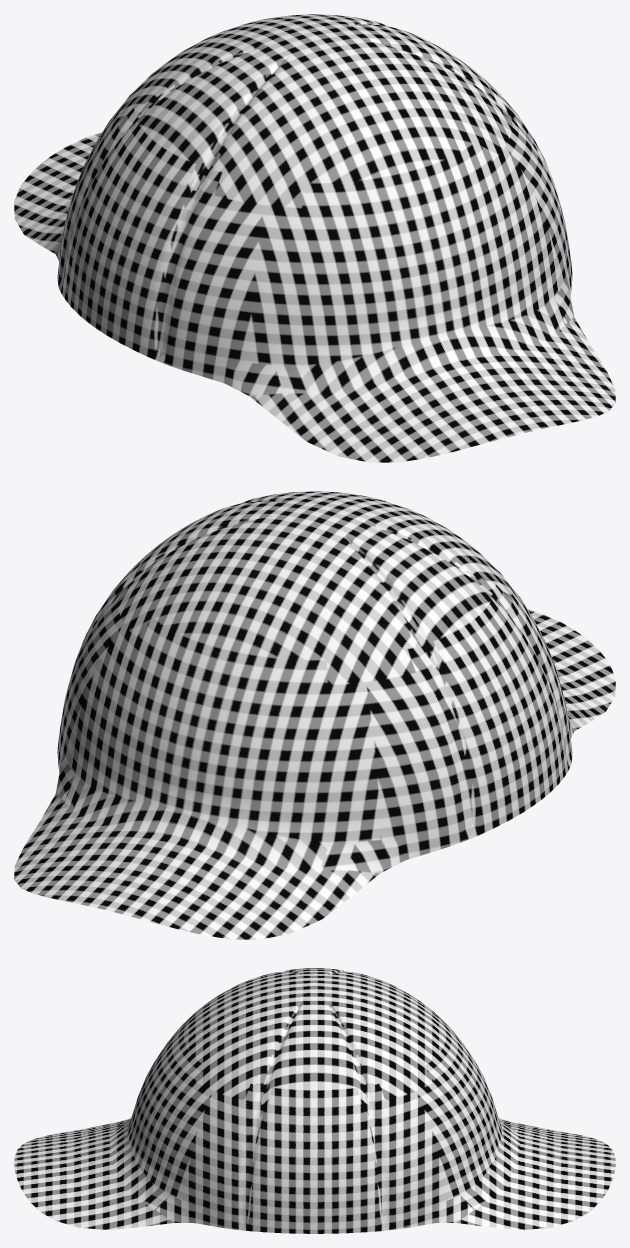
The model's file is Sherlock cap.fbx.
3 renders of one model, top to bottom at view 1: azimuth 30°, elevation 25°; view 2: azimuth 150°, elevation 25°; view 3: azimuth 270°, elevation 25°, orthographic. The views are drawn at different scales.
Visible parts, largest first — view 1: Sherlock cap; view 2: Sherlock cap; view 3: Sherlock cap.
Part boxes in pixels (x1,y1,x2,y2): Sherlock cap: [14, 14, 615, 462]; Sherlock cap: [14, 491, 615, 939]; Sherlock cap: [14, 968, 615, 1233].
Bounding box in the file's own units: 199 × 320 × 114.
1 material, 1 textured.
